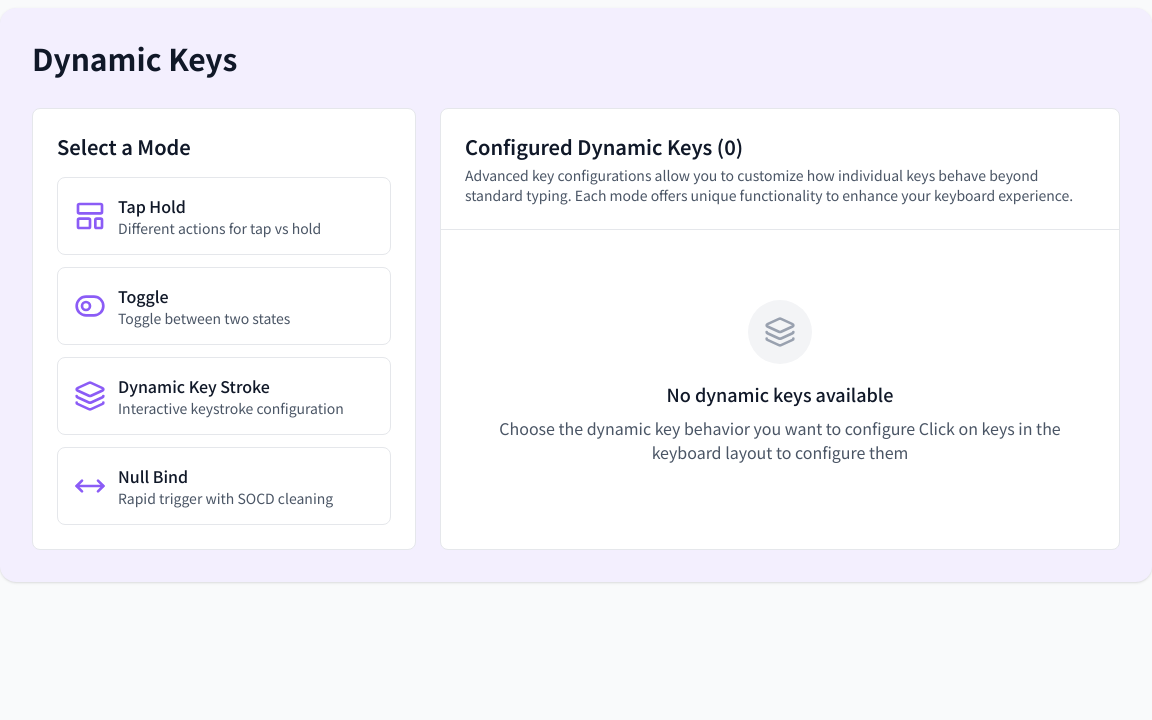
Test: Toggle editor › asks for a key until one is selected
What coordinates should you click on to do the following:
click the button "Toggle Toggle between two states"
I would click on:
 (224, 306)
Its box is x1=57 y1=267 x2=391 y2=345.
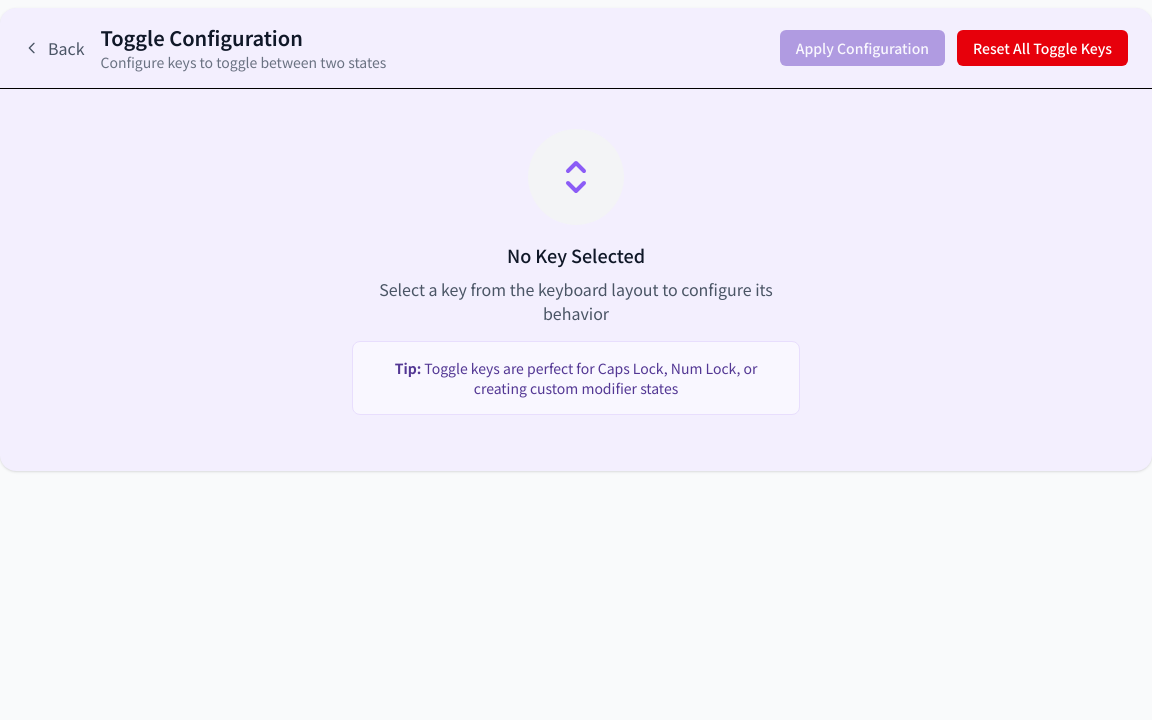
Now the heading "Toggle Configuration" is shown, box x1=100 y1=23 x2=303 y2=52
Now the text "Toggle keys are perfect for Caps Lock" is shown, box x1=421 y1=358 x2=757 y2=398
Now the button "Apply Configuration" is disabled, box x1=780 y1=30 x2=945 y2=66
